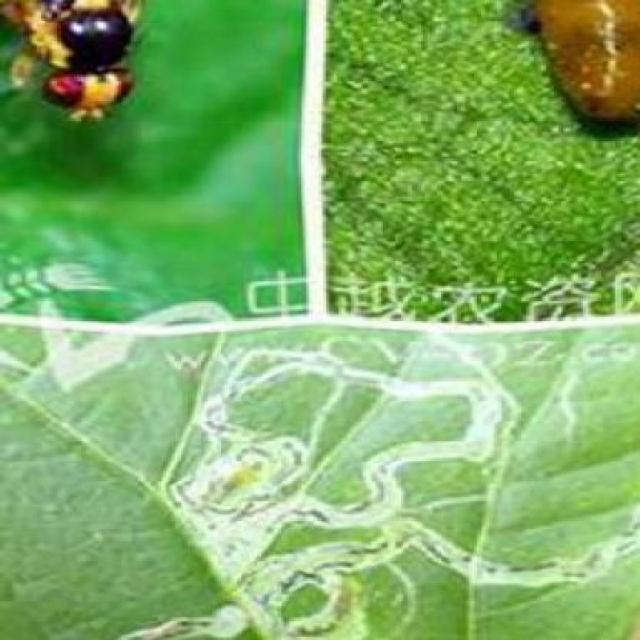whorl-maggot: (521, 3, 640, 137)
